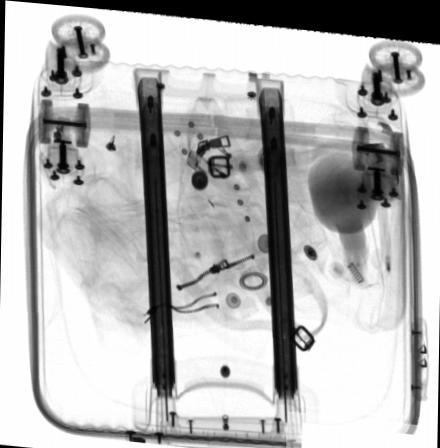Lighter: (185, 145, 249, 202)
